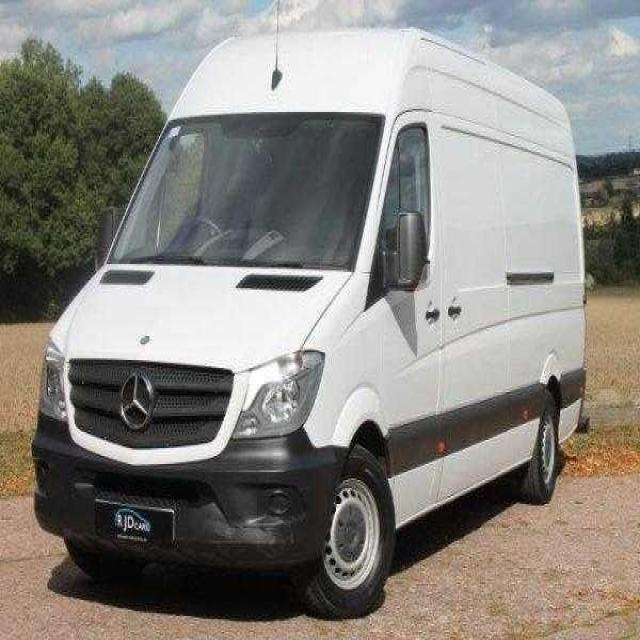Van: (34, 27, 588, 622)
